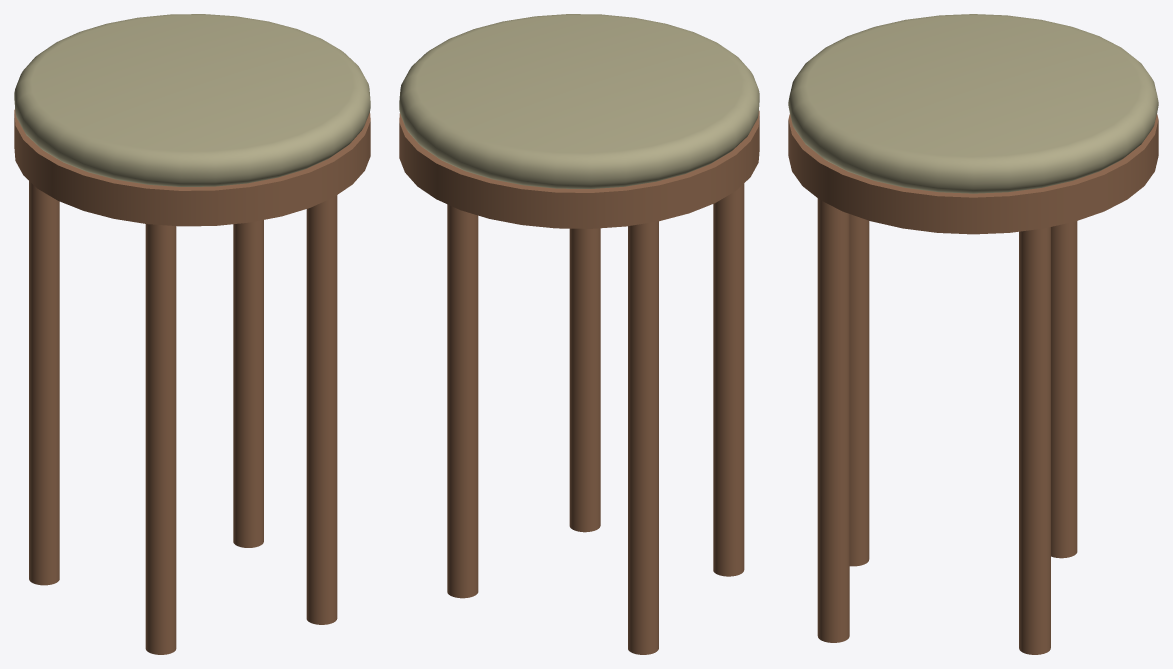
File: chair.fbx
The picture shows the model from 3 angles, left to right: view 1: azimuth 30°, elevation 25°; view 2: azimuth 150°, elevation 25°; view 3: azimuth 270°, elevation 25°; orthographic projection. The views are drawn at different scales.
Visible parts, largest first — view 1: Cylinder.002; view 2: Cylinder.002; view 3: Cylinder.002.
Part boxes in pixels (left/top/right/bottom): Cylinder.002: left=14, top=14, right=370, bottom=654; Cylinder.002: left=399, top=14, right=759, bottom=654; Cylinder.002: left=788, top=14, right=1158, bottom=654.
Size of the model in its own units: 35.26 by 54.54 by 35.26.
